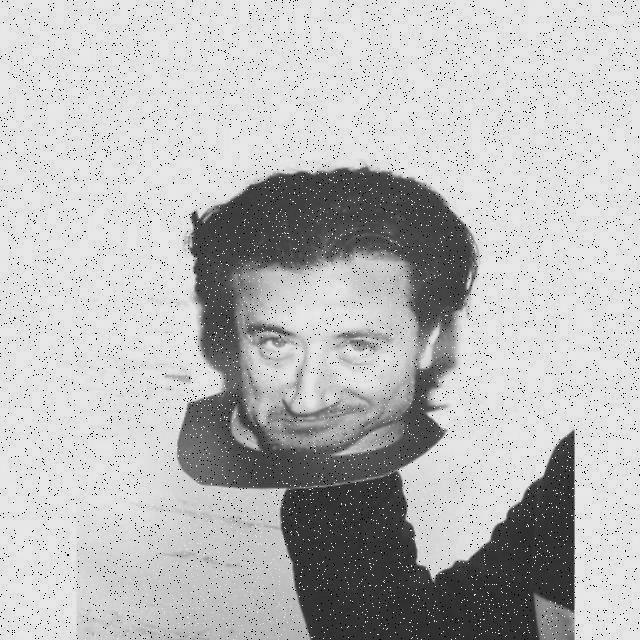fake: (164, 148, 492, 497)
